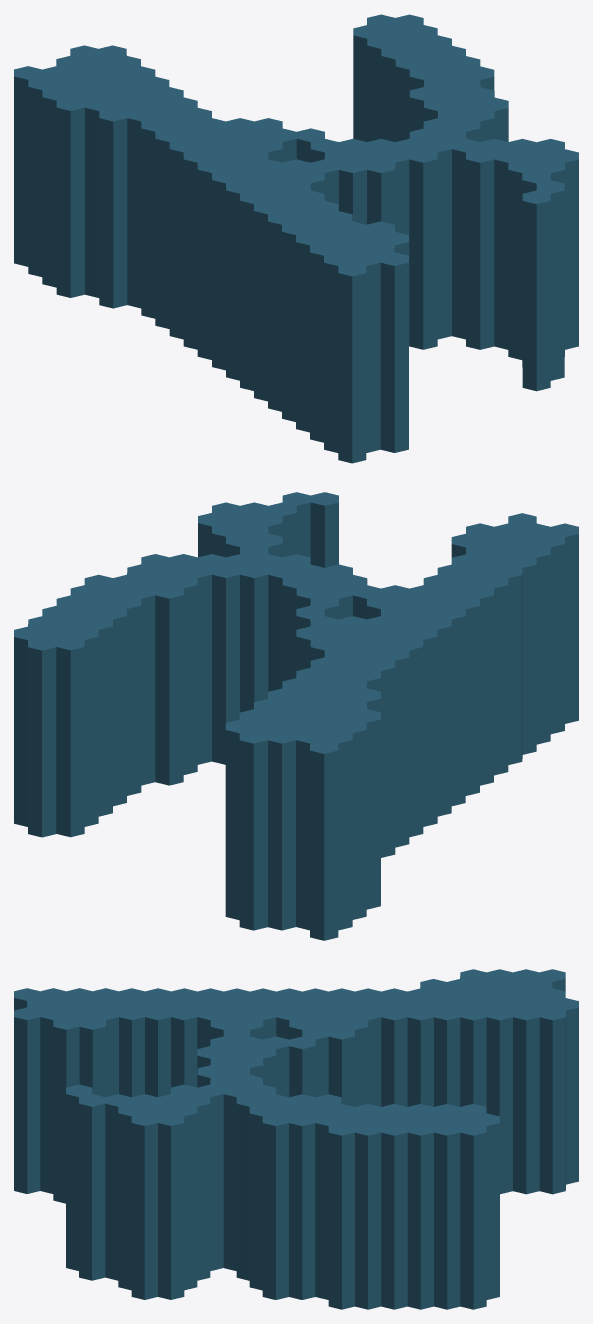
File: level04_water_01.fbx
The picture shows the model from 3 angles, top to bottom: view 1: azimuth 30°, elevation 25°; view 2: azimuth 150°, elevation 25°; view 3: azimuth 270°, elevation 25°; orthographic projection. The views are drawn at different scales.
Parts seen in each view (by area): view 1: level04_water_01; view 2: level04_water_01; view 3: level04_water_01.
Boxes of the visible parts, <box> form: level04_water_01: <box>14,14,578,463</box>; level04_water_01: <box>14,492,578,940</box>; level04_water_01: <box>14,969,578,1309</box>.
Bounding box in the file's own units: 3077 × 1498 × 4409.
